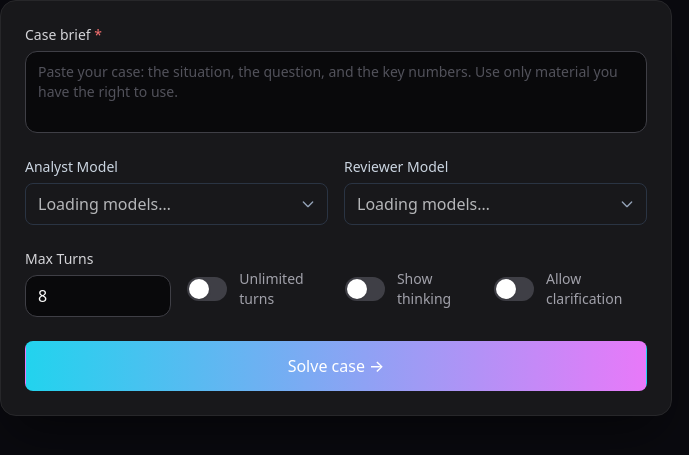
it: TopicForm › clears validation error when user starts typing
Click the button "Solve case →" at {"x": 336, "y": 366}, box [25,341,647,391]
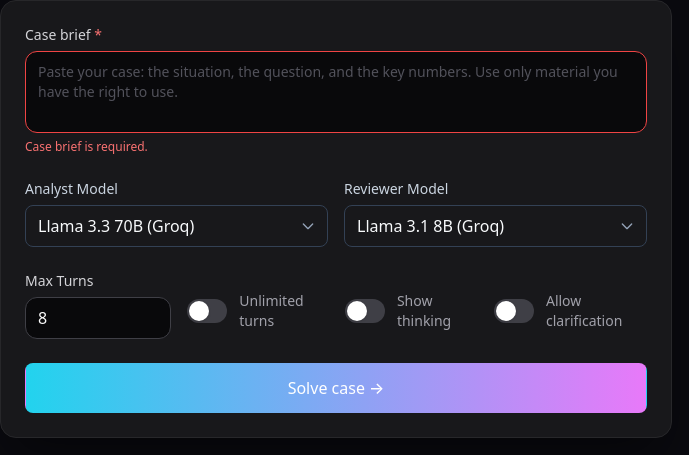
Now the message "Case brief is required." is shown, box [25,138,148,155]
Type "A" into the text box with placeholder "Paste your case" at {"x": 336, "y": 92}, box [25,51,647,133]
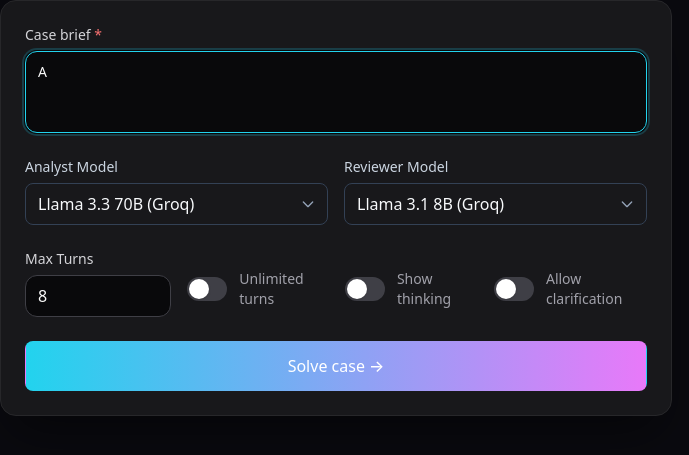
Now the message "Case brief is required." is gone
